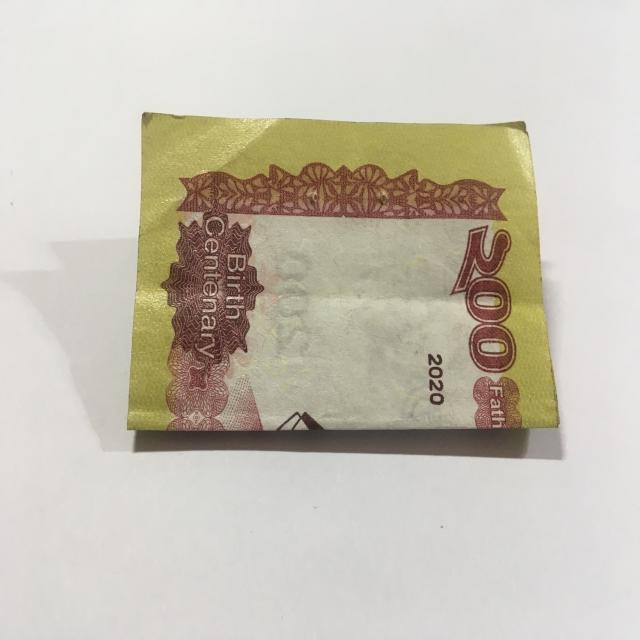Taka: (132, 103, 558, 443)
